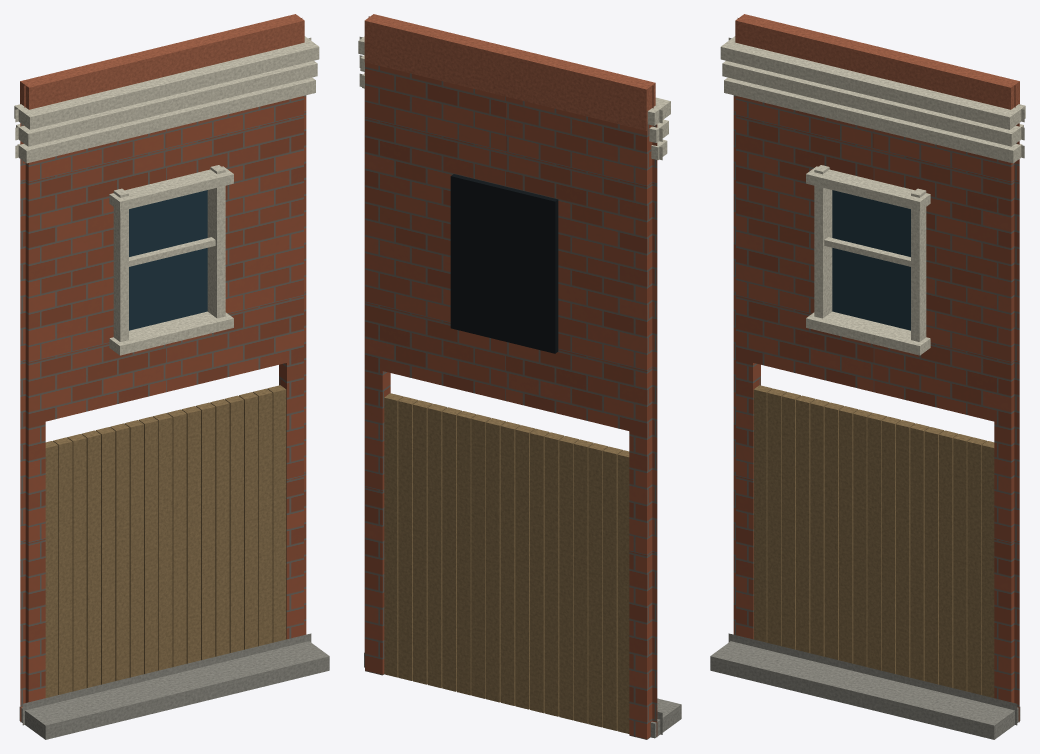
Rendered from VICT15_lod2.glb.
3 views of the same model, side by side, from view 1: azimuth 30°, elevation 25°; view 2: azimuth 150°, elevation 25°; view 3: azimuth 330°, elevation 25° (orthographic). The views are drawn at different scales.
Parts seen in each view (by area): view 1: VICT15_FRONT_LOD2; view 2: VICT15_FRONT_LOD2; view 3: VICT15_FRONT_LOD2.
Part boxes in pixels (<box>): VICT15_FRONT_LOD2: <box>14,14,329,739</box>; VICT15_FRONT_LOD2: <box>358,14,681,739</box>; VICT15_FRONT_LOD2: <box>710,14,1025,739</box>.
Bounding box in the file's own units: 3.44 × 7.05 × 0.65.
8 materials, 6 textured.
